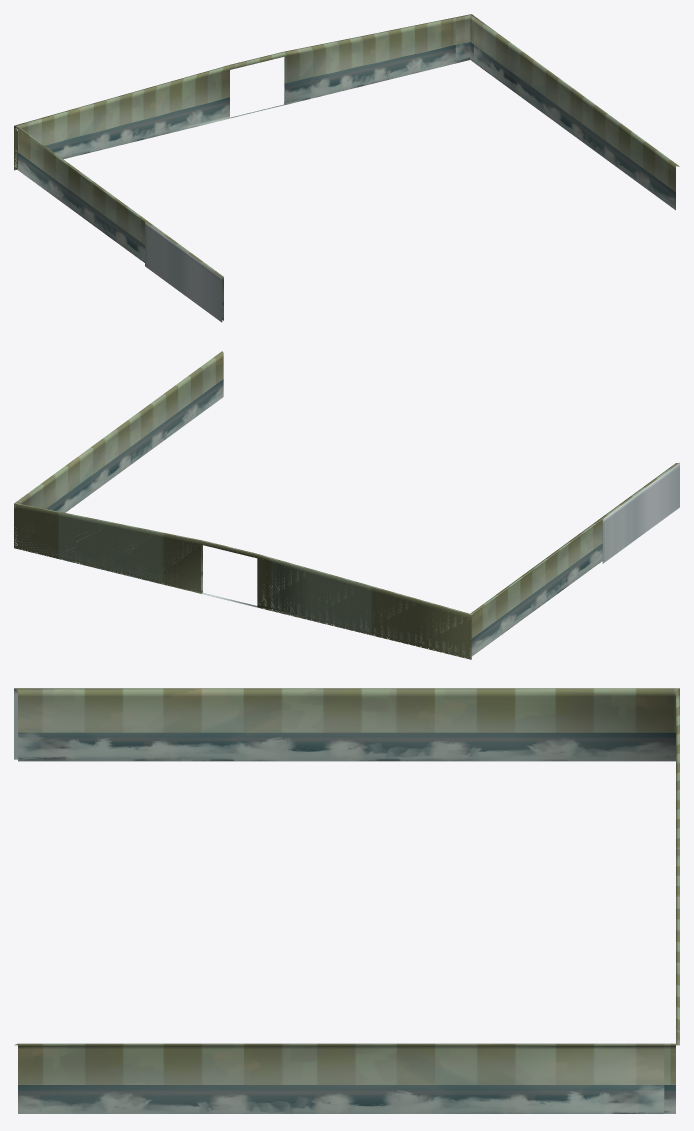
File: Parede.fbx
The picture shows the model from 3 angles, top to bottom: view 1: azimuth 30°, elevation 25°; view 2: azimuth 150°, elevation 25°; view 3: azimuth 270°, elevation 25°; orthographic projection. The views are drawn at different scales.
Visible parts, largest first — view 1: Parede; view 2: Parede; view 3: Parede.
Part boxes in pixels (x1=…): Parede: x1=14, y1=14, x2=679, y2=322; Parede: x1=14, y1=351, x2=679, y2=659; Parede: x1=14, y1=688, x2=679, y2=1113.
Bounding box in the file's own units: 4521 × 3563 × 500.
